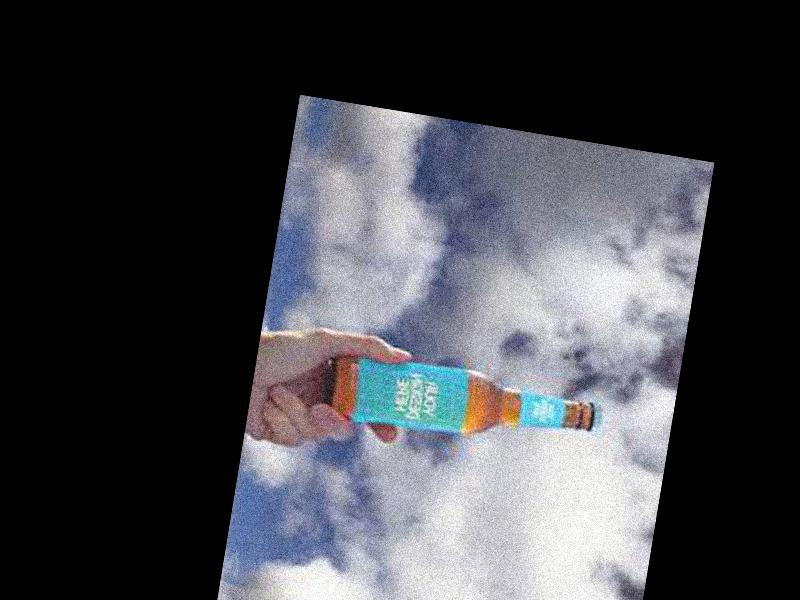Beer: (324, 347, 604, 454)
